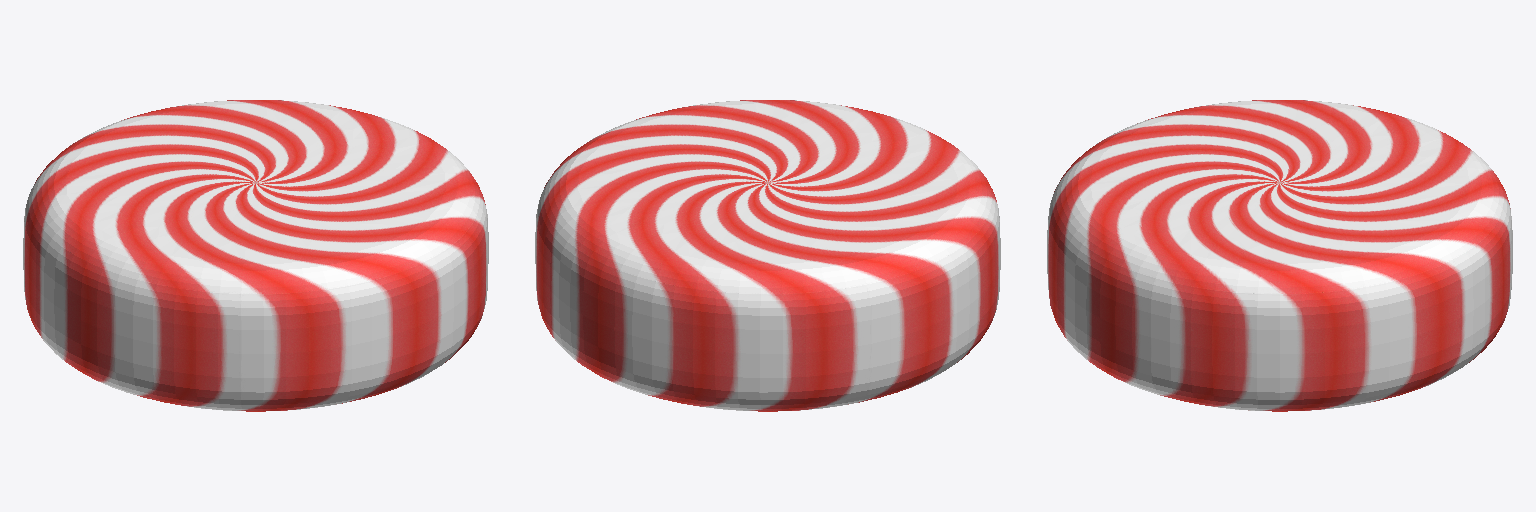
3 views of the same model, side by side, from view 1: azimuth 30°, elevation 25°; view 2: azimuth 150°, elevation 25°; view 3: azimuth 270°, elevation 25° (orthographic).
Visible parts, largest first — view 1: Mesh_0.005; view 2: Mesh_0.005; view 3: Mesh_0.005.
Boxes of the visible parts, <box> form: Mesh_0.005: <box>23,100,488,411</box>; Mesh_0.005: <box>535,100,1000,411</box>; Mesh_0.005: <box>1047,100,1512,411</box>.
Bounding box in the file's own units: 1.99 × 0.6894 × 1.99.
1 materials, 1 textured.